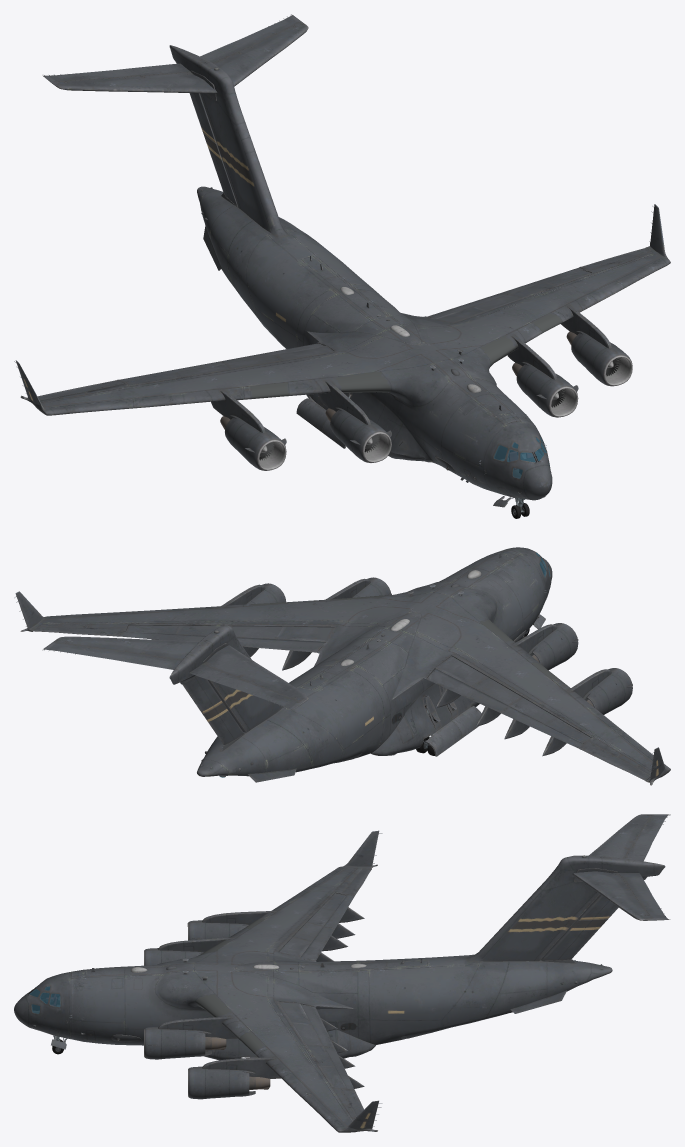
3 views of the same model, one above another, from view 1: azimuth 30°, elevation 25°; view 2: azimuth 150°, elevation 25°; view 3: azimuth 270°, elevation 25° (orthographic). The views are drawn at different scales.
Parts seen in each view (by area): view 1: C_17_BASE_MESH_1, open_0; view 2: C_17_BASE_MESH_1, open_0; view 3: C_17_BASE_MESH_1.
Part boxes in pixels (bbox=[...]): C_17_BASE_MESH_1: bbox=[14, 14, 670, 500]; open_0: bbox=[296, 392, 545, 518]; C_17_BASE_MESH_1: bbox=[14, 547, 670, 785]; open_0: bbox=[416, 614, 545, 756]; C_17_BASE_MESH_1: bbox=[14, 814, 670, 1132].
Bounding box in the file's own units: 0.5202 × 0.1762 × 0.5346.
2 materials, 2 textured.
